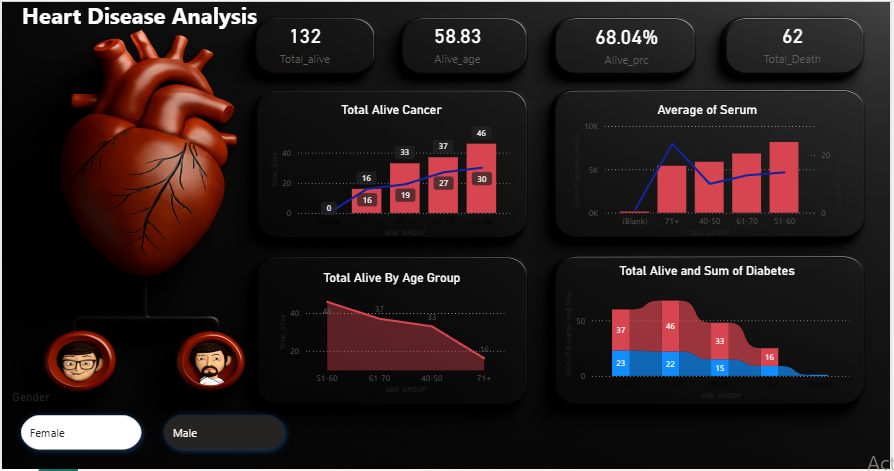

What the dashboard file says about the page in this screenshot:
{"tool":"powerbi","page":{"name":"Page 1","canvas":[1280,720],"ordinal":0},"visuals":[{"type":"textbox","box":[9.5,0,414.3,73],"z":0},{"type":"textbox","box":[0,38.9,396,79.2],"z":1000},{"type":"lineClusteredColumnComboChart","title":"Total Alive Cancer","fields":{"Y":["heart_Disease_clinical_records_.Total_alive"],"Category":["heart_Disease_clinical_records_.AGE_GROUP"],"Y2":["Sum(heart_Disease_clinical_records_.cancer)"]},"box":[381.6,191.5,358.6,198.7],"z":2000},{"type":"lineClusteredColumnComboChart","title":"Average of Serum","fields":{"Category":["heart_Disease_clinical_records_.AGE_GROUP"],"Y":["Sum(heart_Disease_clinical_records_.serum_sodium)"],"Y2":["Sum(heart_Disease_clinical_records_.DEATH_EVENT)"]},"box":[815.9,192.1,398.4,198.4],"z":3000},{"type":"lineChart","title":"Total  Alive By Age Group","fields":{"Category":["heart_Disease_clinical_records_.AGE_GROUP"],"Y":["heart_Disease_clinical_records_.Total_alive"]},"box":[393.7,433.3,336.5,182.5],"z":4000},{"type":"ribbonChart","title":"Total Alive and Sum of Diabetes","fields":{"Category":["heart_Disease_clinical_records_.AGE_GROUP"],"Y":["Sum(heart_Disease_clinical_records_.diabetes)","heart_Disease_clinical_records_.Total_alive"]},"box":[804.8,423.8,420.6,201.6],"z":5000},{"type":"advancedSlicerVisual","fields":{"Values":["heart_Disease_clinical_records_.Gender"]},"box":[9.5,606.3,414.3,103.2],"z":6000},{"type":"card","fields":{"Values":["heart_Disease_clinical_records_.Total_alive"]},"box":[311,17.3,250.6,174.2],"z":7000},{"type":"card","fields":{"Values":["heart_Disease_clinical_records_.Alive_age"]},"box":[459.4,4.3,393.1,200.2],"z":7001},{"type":"card","fields":{"Values":["heart_Disease_clinical_records_.Alive_prc"]},"box":[718.6,38.9,361.4,135.4],"z":7002},{"type":"card","fields":{"Values":["heart_Disease_clinical_records_.Total_Death"]},"box":[1031,36,214.6,138.2],"z":7003}]}

Visuals, with their boxes on the page's 1280x720 design canvas (x1, y1, x2, y2). These are canvas units, not pixel positions in the 894x471 screenshot, which may show the page scaled, cropped or inside an application window:
textbox: bbox=[10, 0, 424, 73]
textbox: bbox=[0, 39, 396, 118]
"Total Alive Cancer" lineClusteredColumnComboChart: bbox=[382, 192, 740, 390]
"Average of Serum" lineClusteredColumnComboChart: bbox=[816, 192, 1214, 390]
"Total  Alive By Age Group" lineChart: bbox=[394, 433, 730, 616]
"Total Alive and Sum of Diabetes" ribbonChart: bbox=[805, 424, 1225, 625]
advancedSlicerVisual - heart_Disease_clinical_records_.Gender: bbox=[10, 606, 424, 710]
card - heart_Disease_clinical_records_.Total_alive: bbox=[311, 17, 562, 192]
card - heart_Disease_clinical_records_.Alive_age: bbox=[459, 4, 852, 204]
card - heart_Disease_clinical_records_.Alive_prc: bbox=[719, 39, 1080, 174]
card - heart_Disease_clinical_records_.Total_Death: bbox=[1031, 36, 1246, 174]
